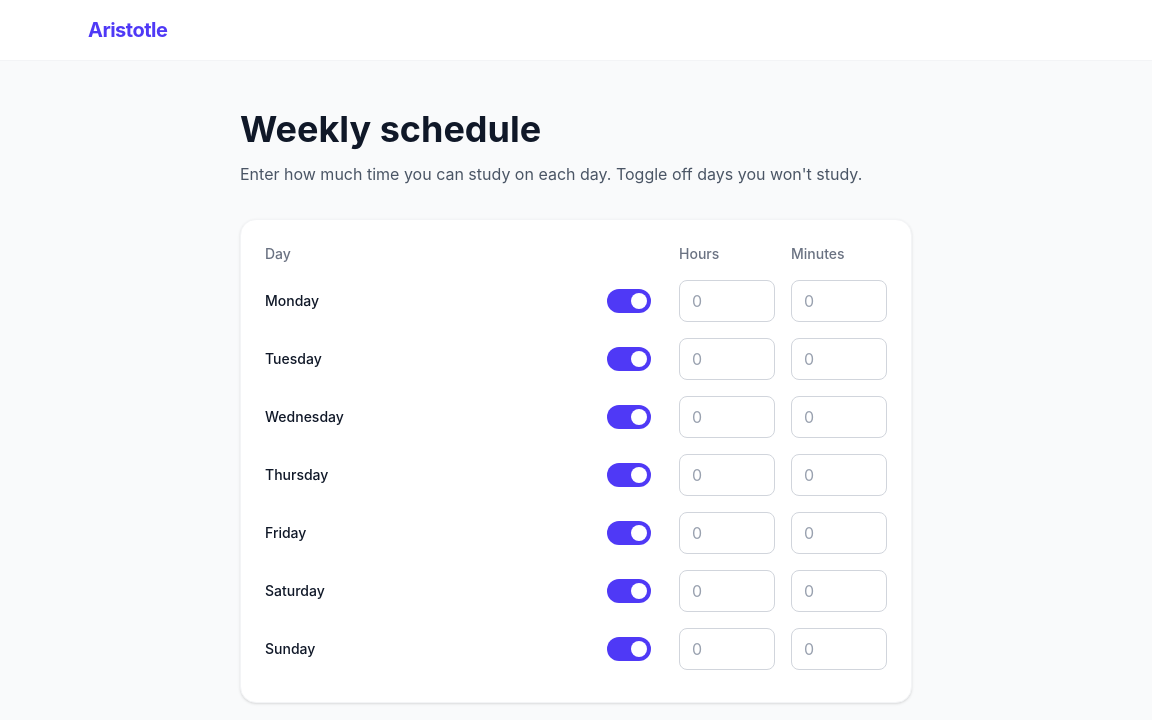
Test: WeeklySchedulePage › clicking a toggle disables a day
This screenshot has width=1152, height=720.
Click the 1st switch at x=629, y=301, box [607,289,651,313]
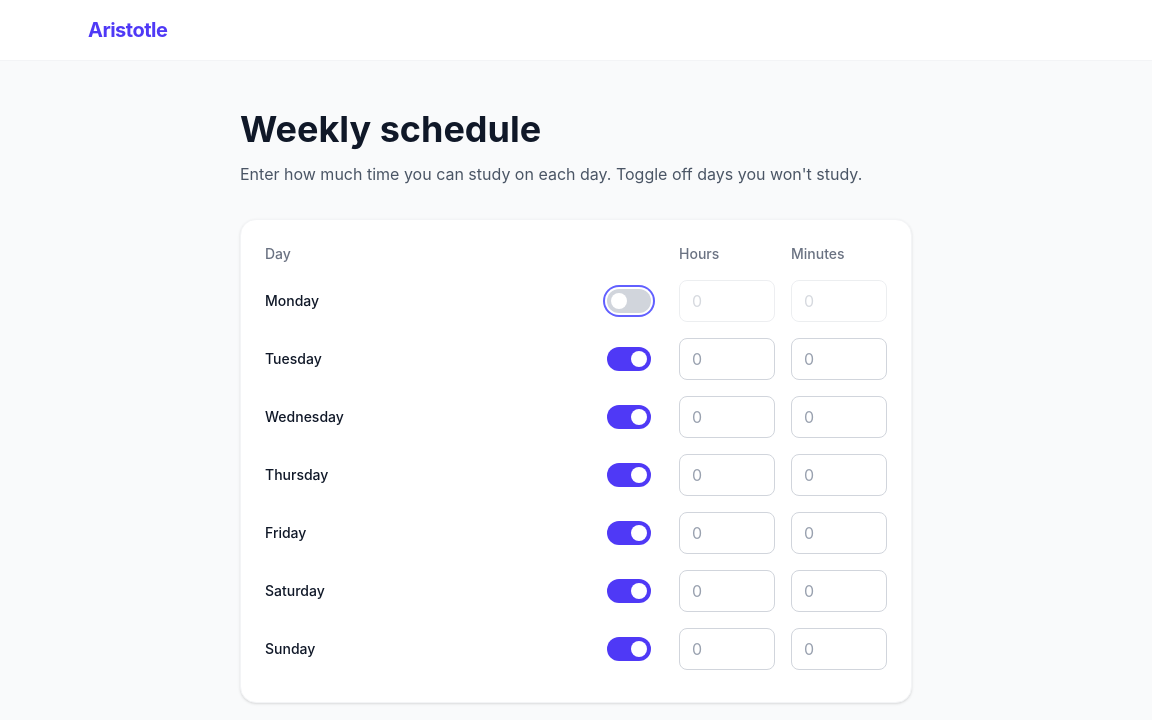
Result: the number field named "Monday hours" is disabled at [679,280,775,322]
Result: the number field named "Monday minutes" is disabled at [791,280,887,322]
